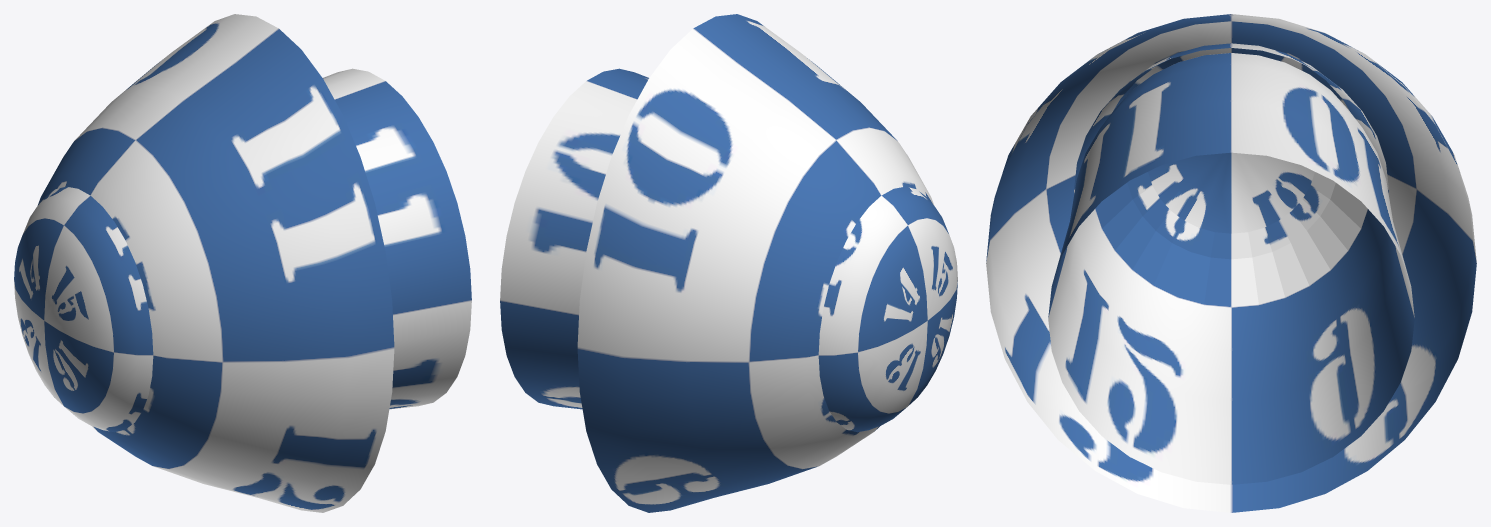
Rendered from Akaza_Wind3.fbx.
3 renders of one model, left to right at view 1: azimuth 30°, elevation 25°; view 2: azimuth 150°, elevation 25°; view 3: azimuth 270°, elevation 25°, orthographic. The views are drawn at different scales.
Visible parts, largest first — view 1: SM_e_Plc_P1012_Wind003; view 2: SM_e_Plc_P1012_Wind003; view 3: SM_e_Plc_P1012_Wind003.
Part boxes in pixels (x1,y1,x2,y2): SM_e_Plc_P1012_Wind003: (14,14,471,512); SM_e_Plc_P1012_Wind003: (500,14,957,512); SM_e_Plc_P1012_Wind003: (986,14,1476,512).
Size of the model in its own units: 281 by 370 by 330.
